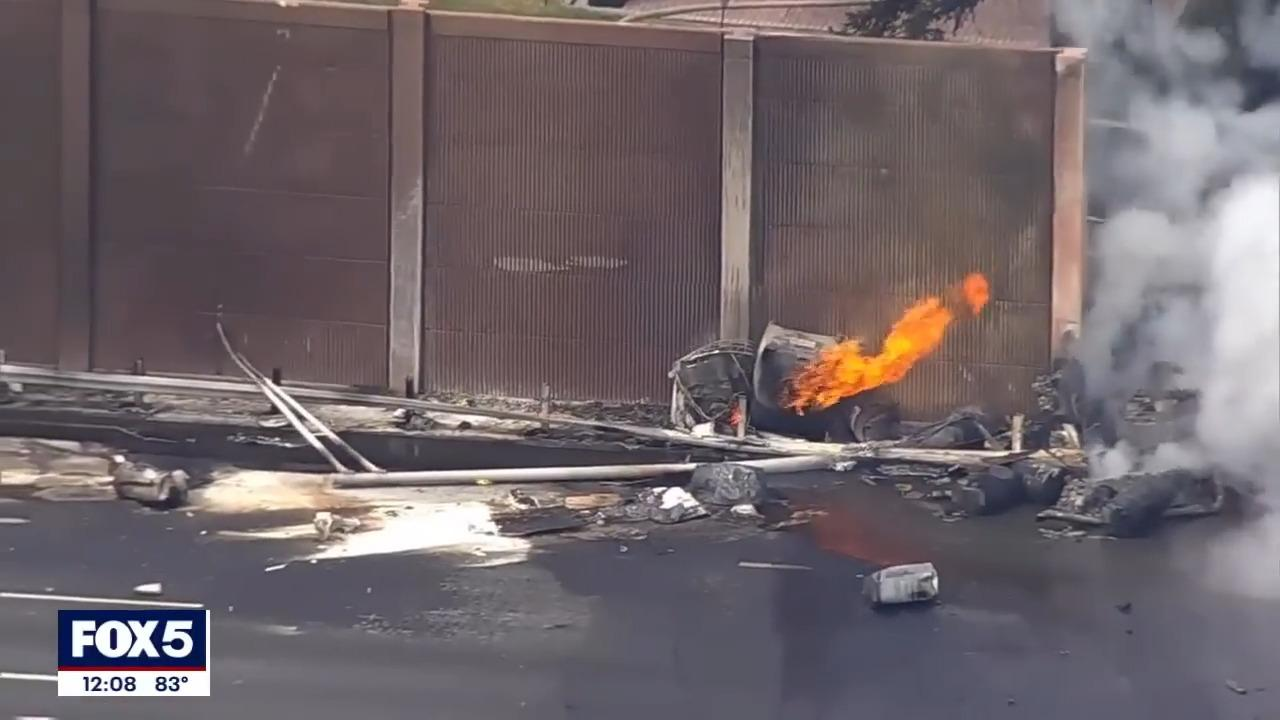fire: (791, 265, 997, 422)
